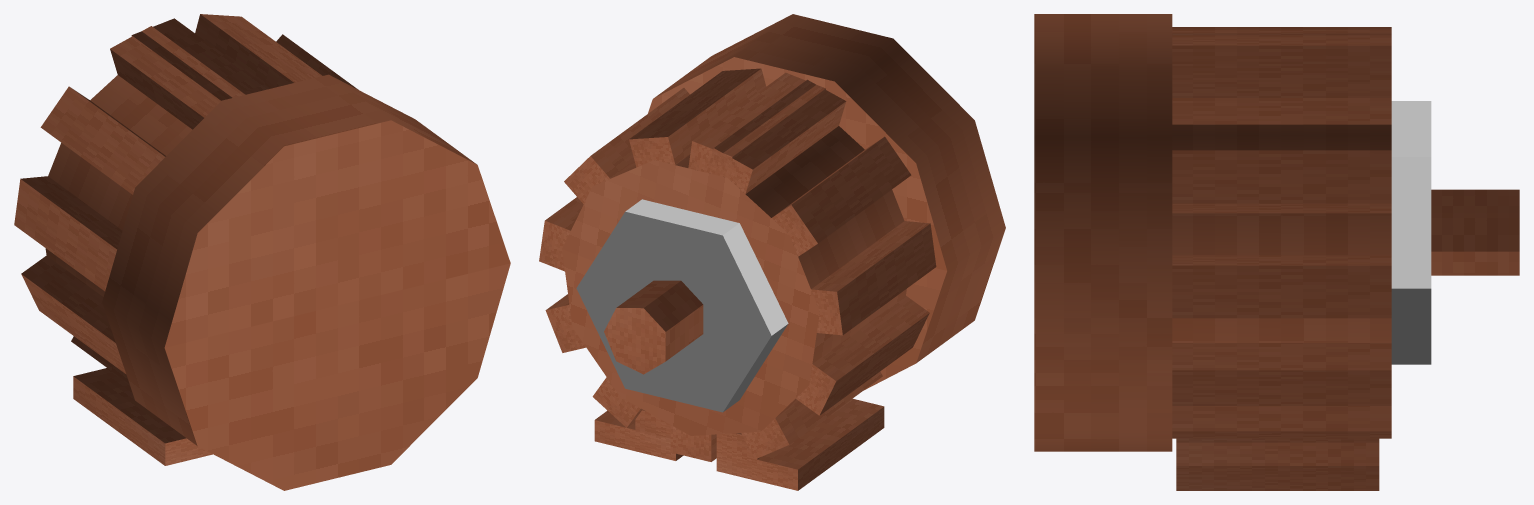
Rendered from electronics_transformer_rf2se.obj.
3 views of the same model, side by side, from view 1: azimuth 30°, elevation 25°; view 2: azimuth 150°, elevation 25°; view 3: azimuth 270°, elevation 25° (orthographic). The views are drawn at different scales.
Visible parts, largest first — view 1: yuanzhu1, yuanzhu_4, yangtiaozhou.6, yangtiaozhou.7, yangtiaozhou.8, dizuo2.1, yangtiaozhou.5, yangtiaozhou.9, yangtiaozhou, yangtiaozhou.10; view 2: yuanzhu1, yuanzhu_4, yuanzhu2, yangtiaozhou.6, yangtiaozhou.7, yangtiaozhou.8, dizuo2.1, yuanzhu3, yangtiaozhou.5, yangtiaozhou.9, yangtiaozhou, yangtiaozhou.10 (+8 smaller); view 3: yuanzhu1, yuanzhu_4, yangtiaozhou.11, yangtiaozhou.10, yangtiaozhou.9, yangtiaozhou.1, yuanzhu2, dizuo2.2, yuanzhu3, yangtiaozhou.2, yangtiaozhou, yangtiaozhou.8 (+1 smaller).
Part boxes in pixels (box(x1,y1,x2,y2)): yuanzhu1: box(102, 74, 510, 490); yuanzhu_4: box(45, 75, 192, 296); yangtiaozhou.6: box(14, 176, 122, 291); yangtiaozhou.7: box(40, 86, 165, 194); yangtiaozhou.8: box(110, 26, 245, 129); dizuo2.1: box(73, 368, 212, 465); yangtiaozhou.5: box(21, 255, 125, 373); yangtiaozhou.9: box(195, 14, 322, 88); yangtiaozhou: box(131, 18, 270, 101); yangtiaozhou.10: box(276, 34, 358, 89); yuanzhu1: box(648, 14, 1005, 390); yuanzhu_4: box(562, 126, 906, 435); yuanzhu2: box(576, 199, 788, 412); yangtiaozhou.6: box(811, 221, 936, 335); yangtiaozhou.7: box(772, 136, 911, 256); yangtiaozhou.8: box(706, 79, 846, 193); dizuo2.1: box(716, 398, 884, 490); yuanzhu3: box(604, 280, 703, 374); yangtiaozhou.5: box(796, 296, 929, 415); yangtiaozhou.9: box(629, 68, 766, 167); yangtiaozhou: box(688, 72, 825, 178); yangtiaozhou.10: box(564, 88, 689, 204); yuanzhu1: box(1034, 14, 1172, 451); yuanzhu_4: box(1172, 124, 1391, 342); yangtiaozhou.11: box(1172, 255, 1391, 318); yangtiaozhou.10: box(1172, 150, 1391, 213); yangtiaozhou.9: box(1172, 61, 1391, 124); yangtiaozhou.1: box(1172, 343, 1391, 405); yuanzhu2: box(1391, 101, 1431, 364); dizuo2.2: box(1176, 442, 1379, 490); yuanzhu3: box(1431, 189, 1519, 275); yangtiaozhou.2: box(1172, 406, 1391, 438); yangtiaozhou: box(1172, 29, 1391, 61); yangtiaozhou.8: box(1172, 27, 1391, 37).
Size of the model in its own units: 1 by 0.9755 by 1.1.
